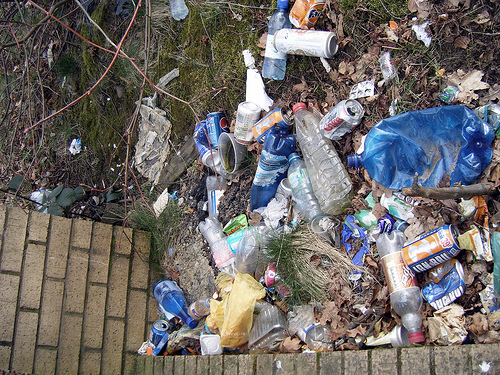rubble: (147, 1, 496, 352)
